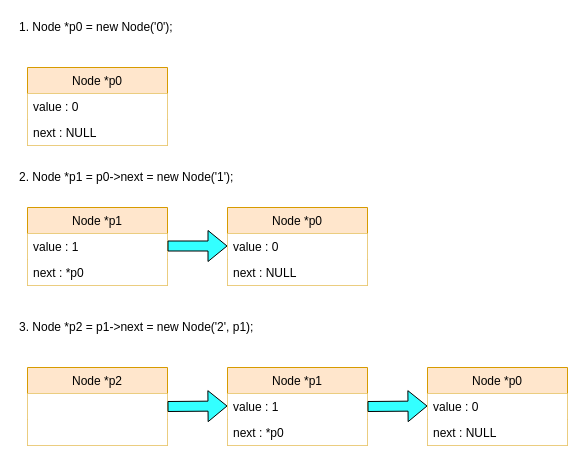
Image size: 585x465. Some labels were removed from this diagram. The centre of each missing label's shape, as x and y in pixels:
"next : *p1" belongs at point 97,432.
"value : 2" belongs at point 97,406.
